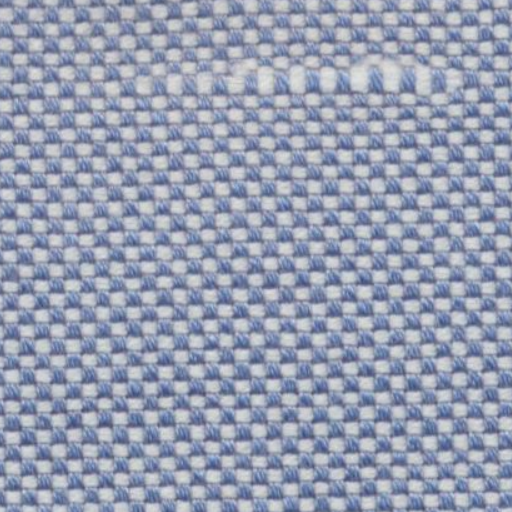DaiSha: (112, 48, 492, 106)
